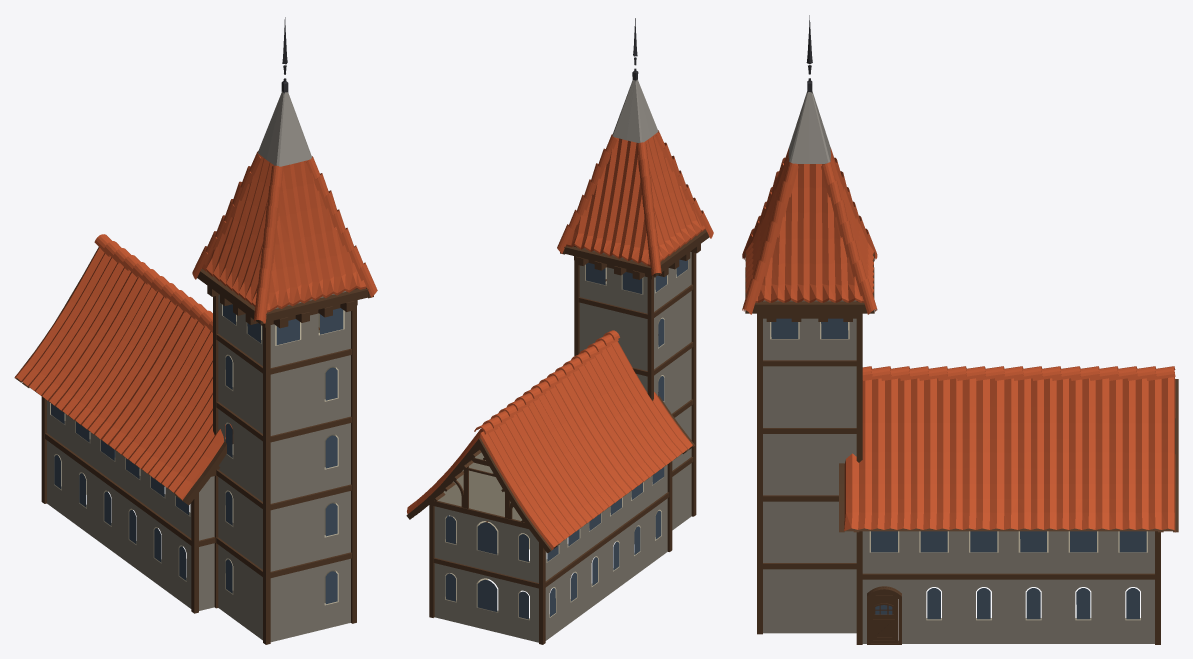
The model's file is church.obj.
The picture shows the model from 3 angles, left to right: view 1: azimuth 30°, elevation 25°; view 2: azimuth 150°, elevation 25°; view 3: azimuth 270°, elevation 25°; orthographic projection. The views are drawn at different scales.
Bounding box in the file's own units: 8.25 × 26.55 × 17.54.
